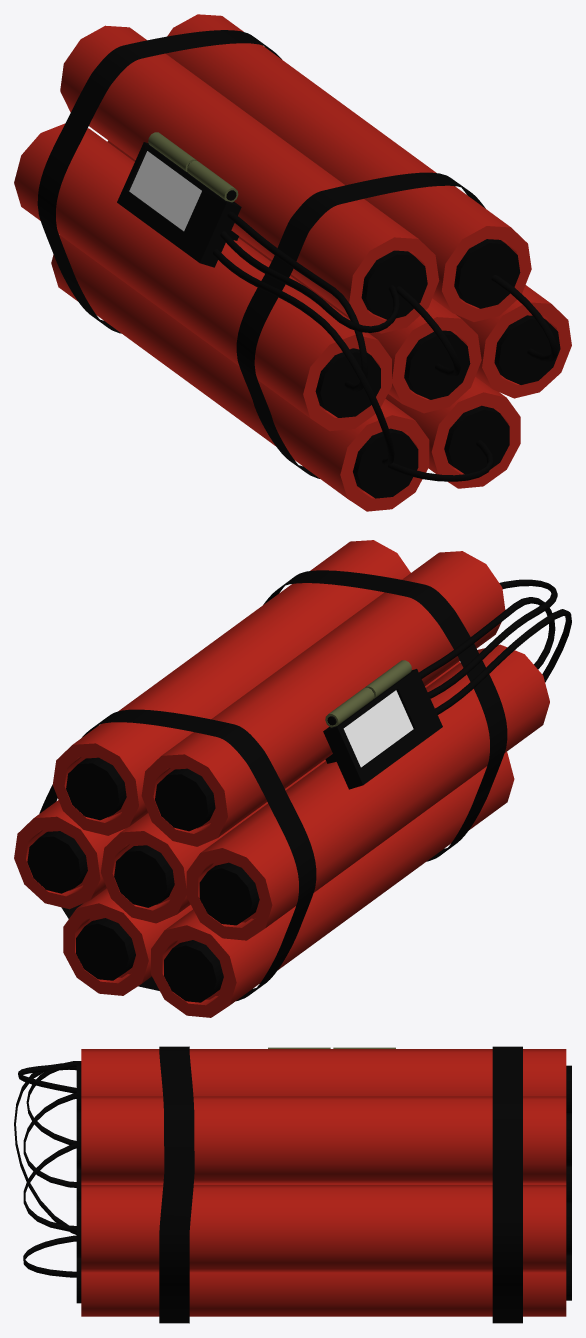
The model's file is TNT.fbx.
3 renders of one model, top to bottom at view 1: azimuth 30°, elevation 25°; view 2: azimuth 150°, elevation 25°; view 3: azimuth 270°, elevation 25°, orthographic. The views are drawn at different scales.
Parts seen in each view (by area): view 1: Cylinder.021; view 2: Cylinder.021; view 3: Cylinder.021.
Part boxes in pixels (box(x1,y1,x2,y2)): Cylinder.021: box(14, 14, 571, 511); Cylinder.021: box(14, 540, 571, 1017); Cylinder.021: box(14, 1046, 571, 1323).
Bounding box in the file's own units: 0.4155 × 0.4052 × 0.8733.
